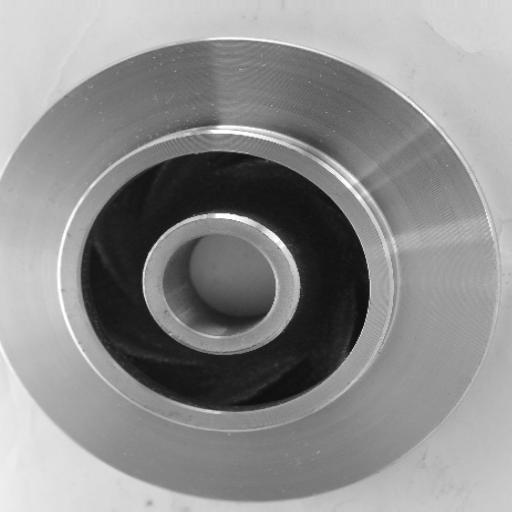polished_casting: (0, 36, 497, 503)
